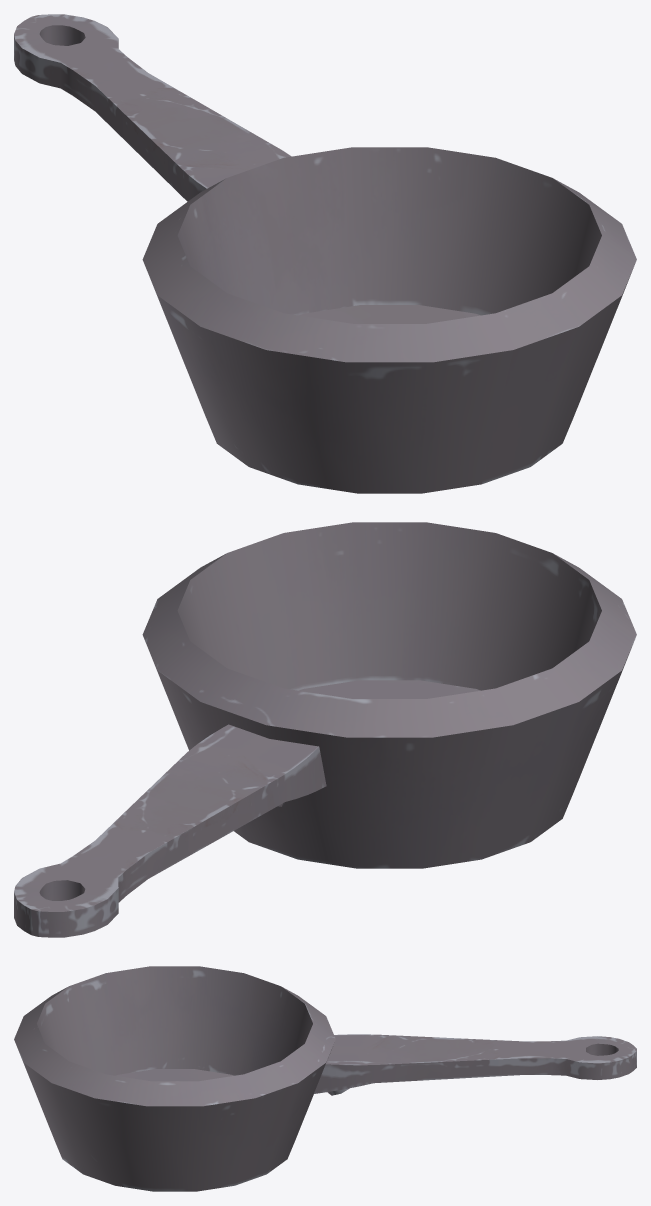
The model's file is Pan_2.fbx.
3 renders of one model, top to bottom at view 1: azimuth 30°, elevation 25°; view 2: azimuth 150°, elevation 25°; view 3: azimuth 270°, elevation 25°, orthographic. The views are drawn at different scales.
Parts seen in each view (by area): view 1: Pan_2; view 2: Pan_2; view 3: Pan_2.
Boxes of the visible parts, bbox=[...] form: Pan_2: bbox=[14, 14, 636, 493]; Pan_2: bbox=[14, 522, 636, 937]; Pan_2: bbox=[14, 966, 636, 1191].
Bounding box in the file's own units: 37.86 × 15.57 × 74.41.
